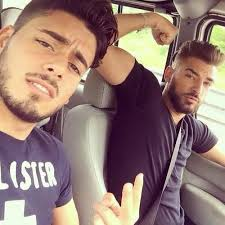middle_eastern_male: (7, 7, 97, 117), (172, 47, 216, 108)
